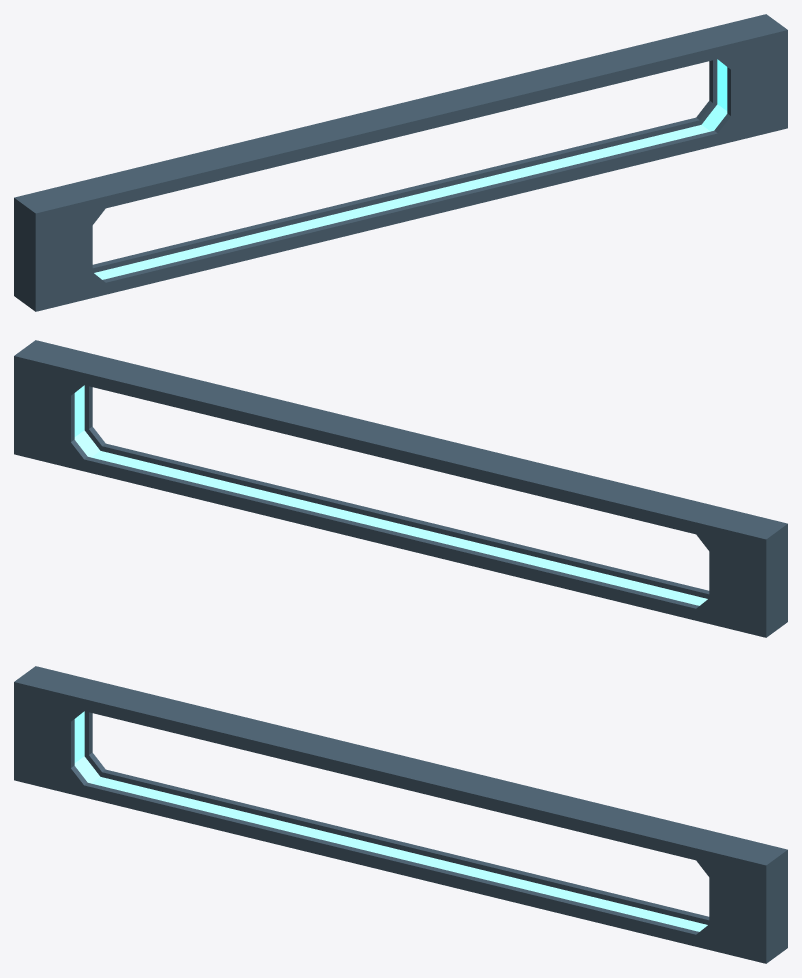
The model's file is W1_WallWindow1A_4m_Top.fbx.
The picture shows the model from 3 angles, top to bottom: view 1: azimuth 30°, elevation 25°; view 2: azimuth 150°, elevation 25°; view 3: azimuth 330°, elevation 25°; orthographic projection.
Parts seen in each view (by area): view 1: W1_WallWindow1A_4m_Top.001; view 2: W1_WallWindow1A_4m_Top.001; view 3: W1_WallWindow1A_4m_Top.001.
Part boxes in pixels (x1,y1,x2,y2): W1_WallWindow1A_4m_Top.001: [14, 14, 787, 311]; W1_WallWindow1A_4m_Top.001: [14, 340, 787, 637]; W1_WallWindow1A_4m_Top.001: [14, 666, 787, 963].
Size of the model in its own units: 4 by 0.5 by 0.2.
